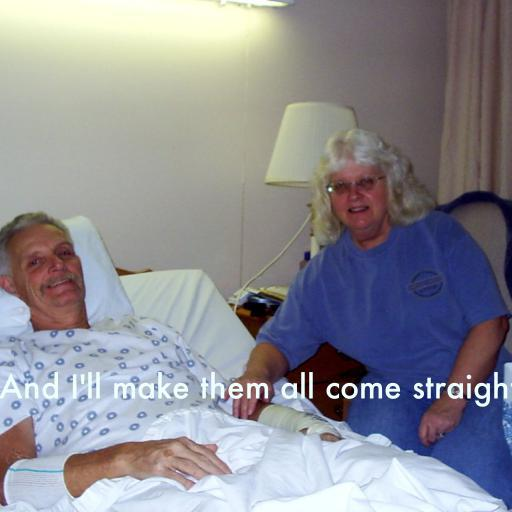Futura: (0, 372, 512, 407)
